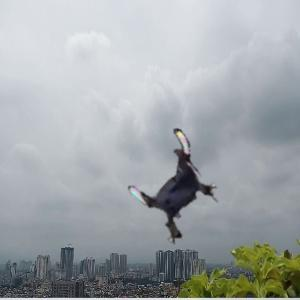drone: (126, 137, 229, 240)
